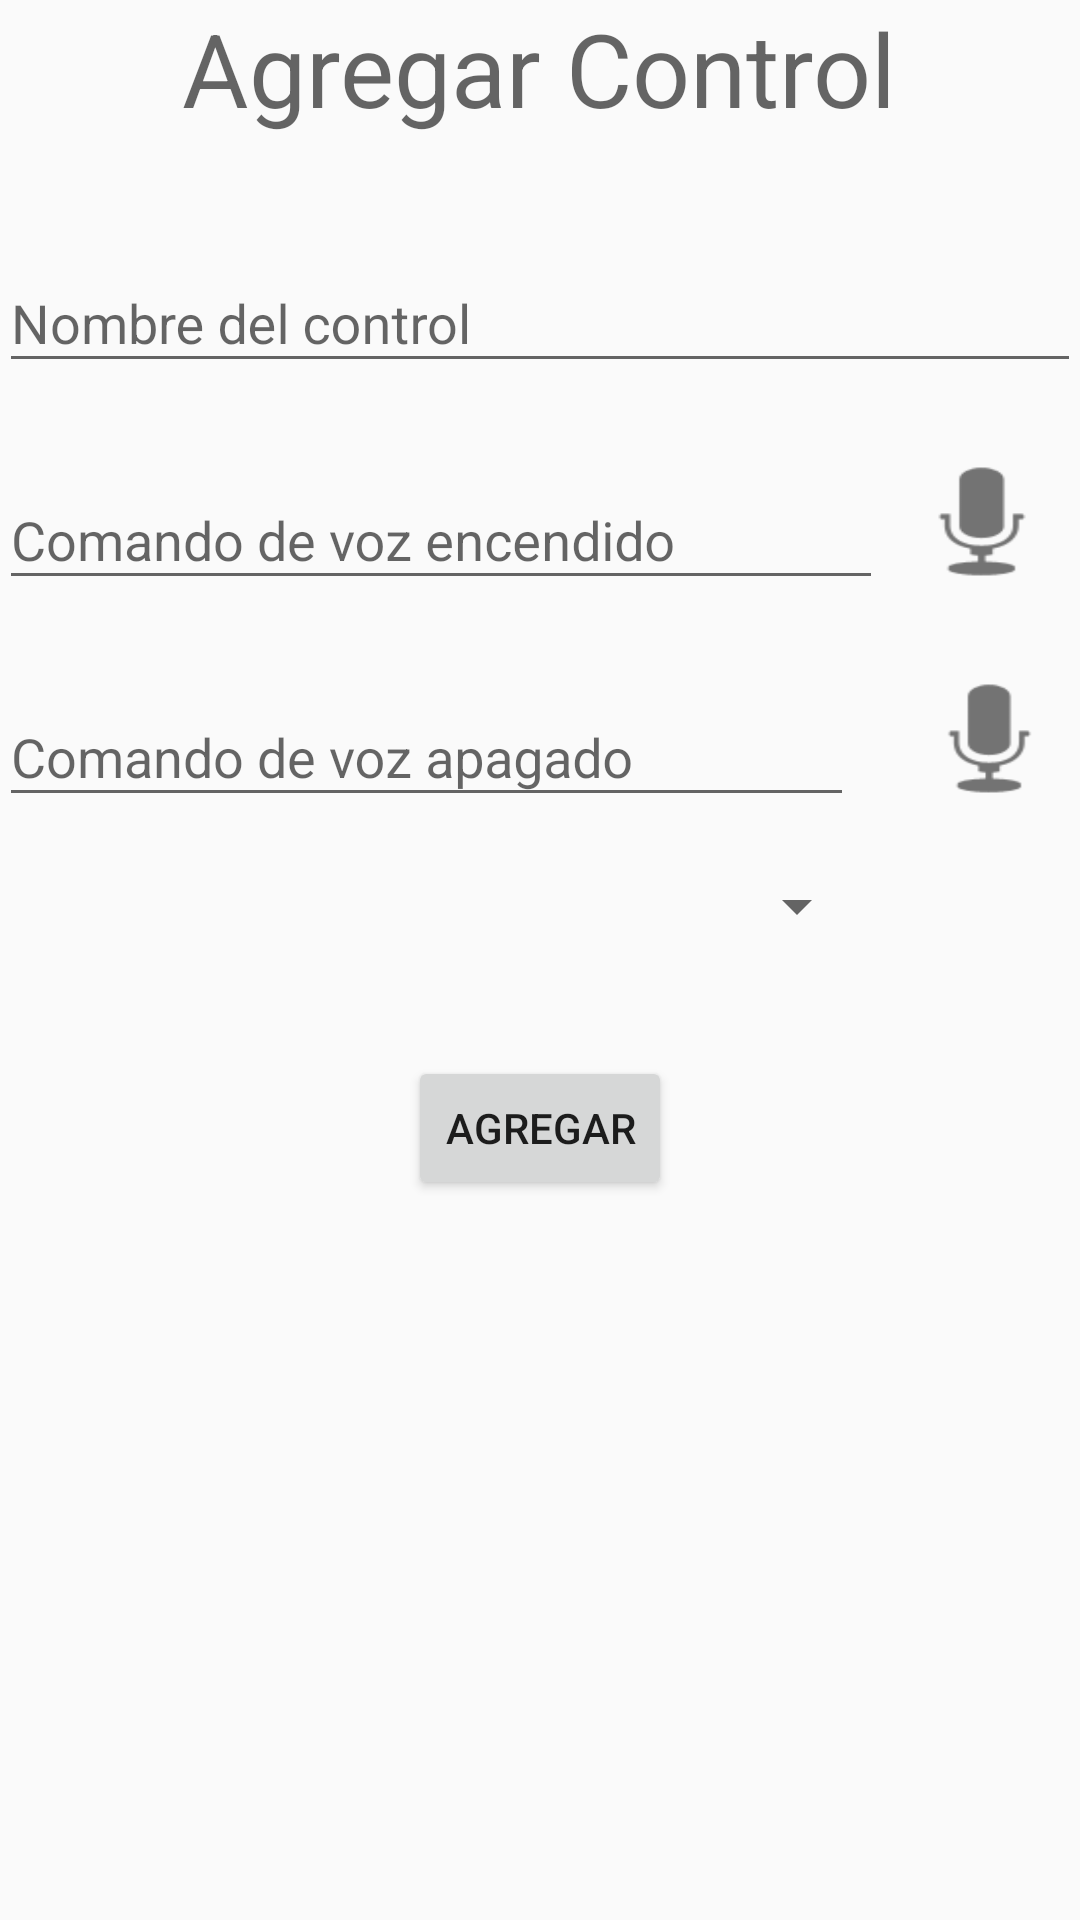

Icons on this 1080*1920 Android screen, each with its box as bbox=[x1, y1, x2, y2]:
speak now: bbox=[939, 467, 1025, 576], bbox=[948, 684, 1031, 793]
